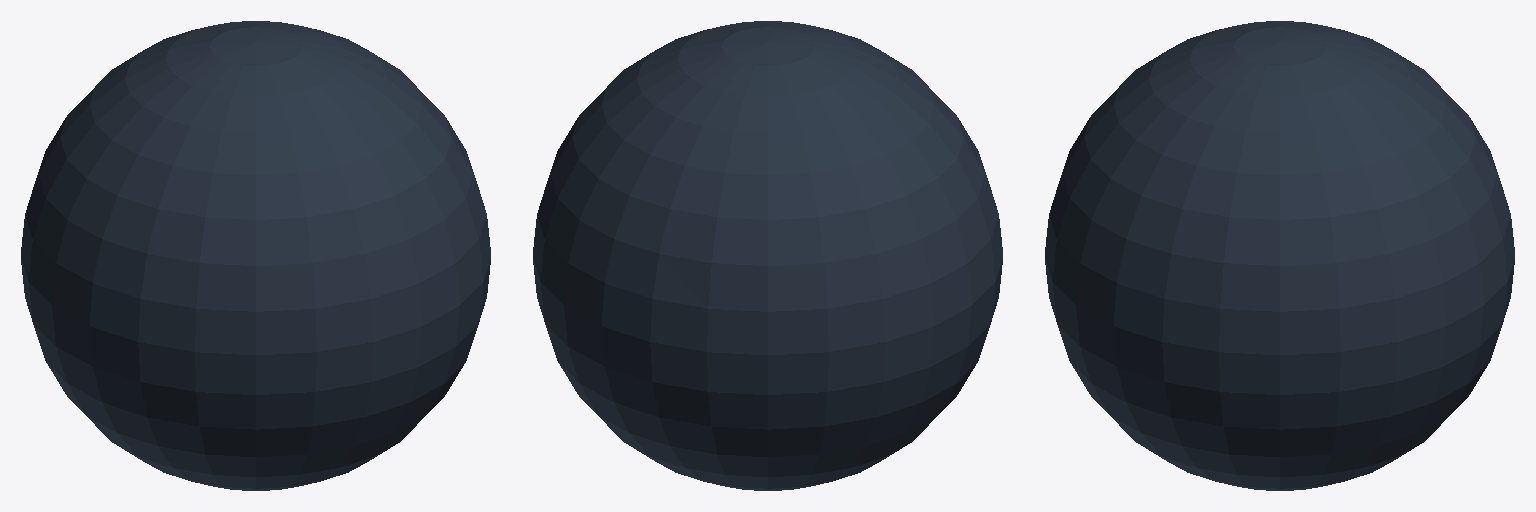
Rendered from Earth_Three-Views.obj.
The picture shows the model from 3 angles: view 1: azimuth 30°, elevation 25°; view 2: azimuth 150°, elevation 25°; view 3: azimuth 270°, elevation 25°; orthographic projection.
Parts seen in each view (by area): view 1: Mesh1 sphere01_2_1 skp1DFA1 Model; view 2: Mesh1 sphere01_2_1 skp1DFA1 Model; view 3: Mesh1 sphere01_2_1 skp1DFA1 Model.
Part boxes in pixels (bbox=[...]): Mesh1 sphere01_2_1 skp1DFA1 Model: bbox=[21, 21, 490, 490]; Mesh1 sphere01_2_1 skp1DFA1 Model: bbox=[533, 21, 1002, 490]; Mesh1 sphere01_2_1 skp1DFA1 Model: bbox=[1045, 21, 1514, 490].
Bounding box in the file's own units: 12.87 × 12.87 × 12.87.